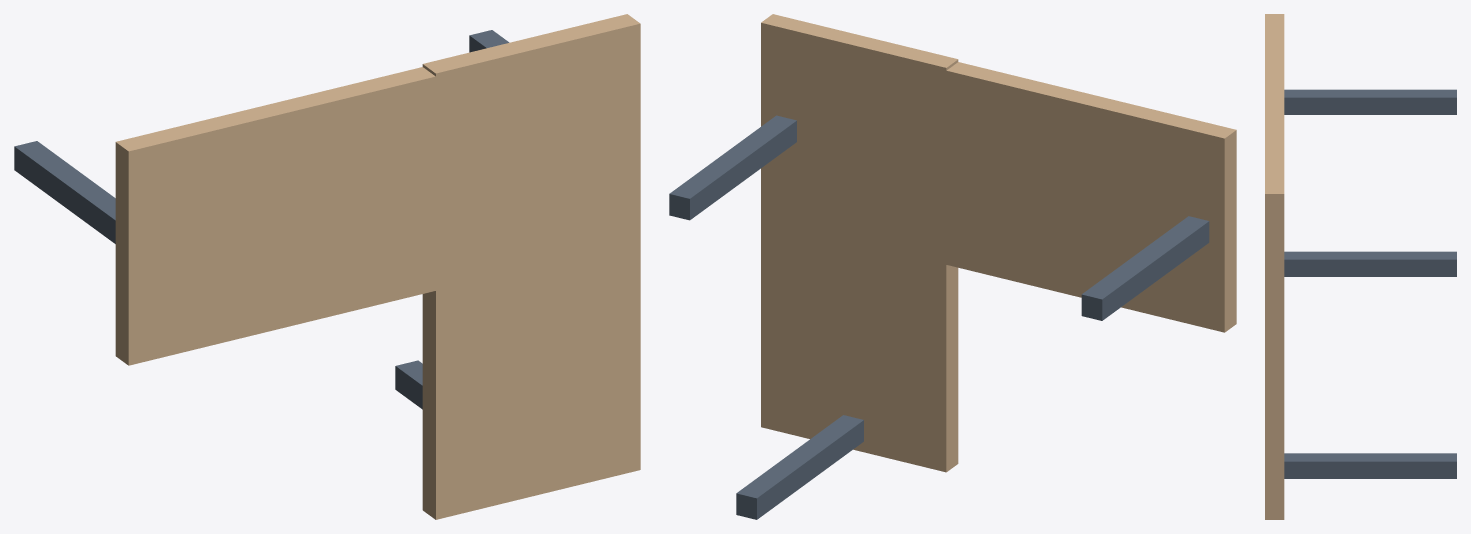
Rendered from desk_L.glb.
3 views of the same model, side by side, from view 1: azimuth 30°, elevation 25°; view 2: azimuth 150°, elevation 25°; view 3: azimuth 270°, elevation 25° (orthographic). The views are drawn at different scales.
Parts seen in each view (by area): view 1: desk_a_0, desk_b_1, leg_2, leg_4; view 2: desk_a_0, desk_b_1, leg_2, leg_4, leg_3; view 3: desk_b_1, desk_a_0, leg_2, leg_3, leg_4.
Boxes of the visible parts, x1,y1,x2,y2 form: desk_a_0: [115, 26, 640, 365]; desk_b_1: [422, 14, 640, 519]; leg_2: [14, 141, 115, 243]; leg_4: [395, 360, 422, 409]; desk_a_0: [761, 26, 1236, 332]; desk_b_1: [761, 14, 958, 472]; leg_2: [1081, 216, 1209, 320]; leg_4: [736, 415, 863, 519]; leg_3: [669, 115, 796, 220]; desk_b_1: [1265, 121, 1284, 519]; desk_a_0: [1265, 14, 1284, 352]; leg_2: [1284, 89, 1456, 114]; leg_3: [1284, 251, 1456, 276]; leg_4: [1284, 453, 1456, 478].
Bounding box in the file's own units: 1.8 × 1.5 × 0.8.
